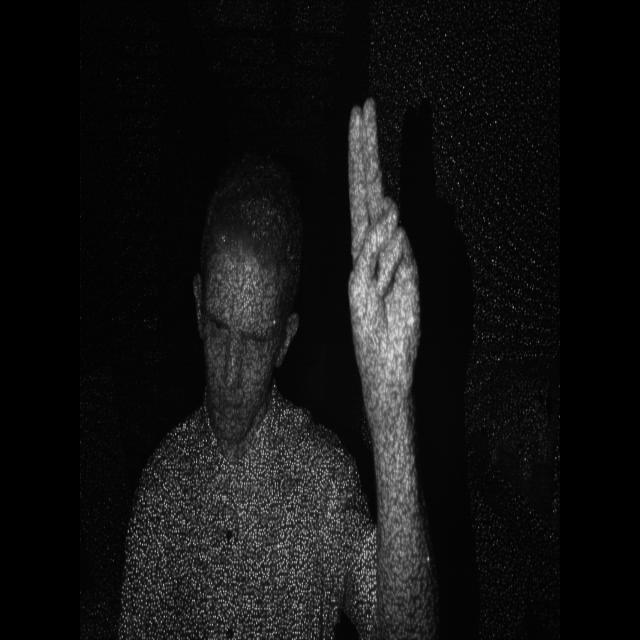U: (330, 80, 427, 413)
